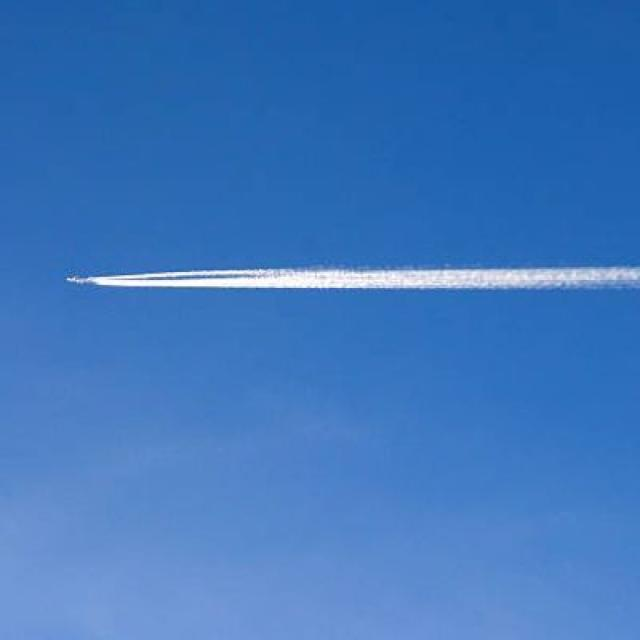Ct: (93, 258, 640, 314)
